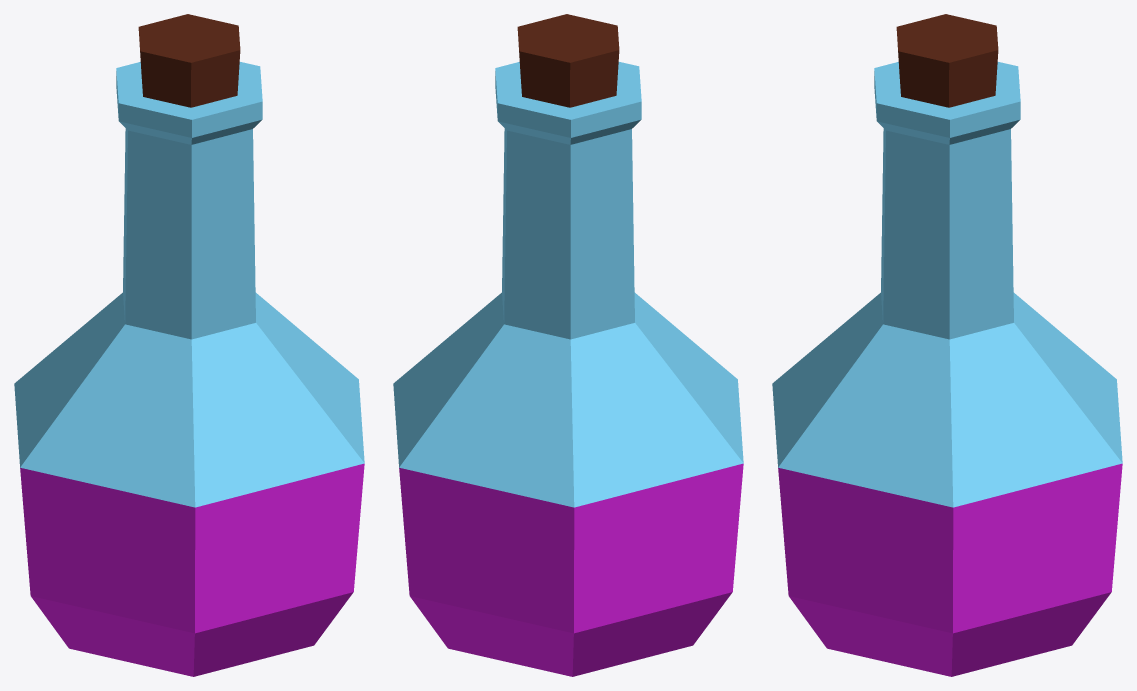
Rendered from m_PinkPotion.FBX.
3 renders of one model, left to right at view 1: azimuth 30°, elevation 25°; view 2: azimuth 150°, elevation 25°; view 3: azimuth 270°, elevation 25°, orthographic.
Parts seen in each view (by area): view 1: Circle.001; view 2: Circle.001; view 3: Circle.001.
Part boxes in pixels (box(x1,y1,x2,y2)): Circle.001: box(14, 14, 364, 676); Circle.001: box(393, 14, 743, 676); Circle.001: box(772, 14, 1122, 676).
Bounding box in the file's own units: 45.15 × 72.46 × 39.76.
1 material, 1 textured.
